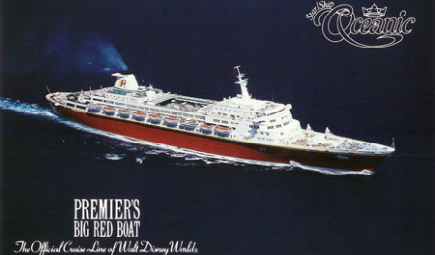ship: (42, 76, 428, 236)
